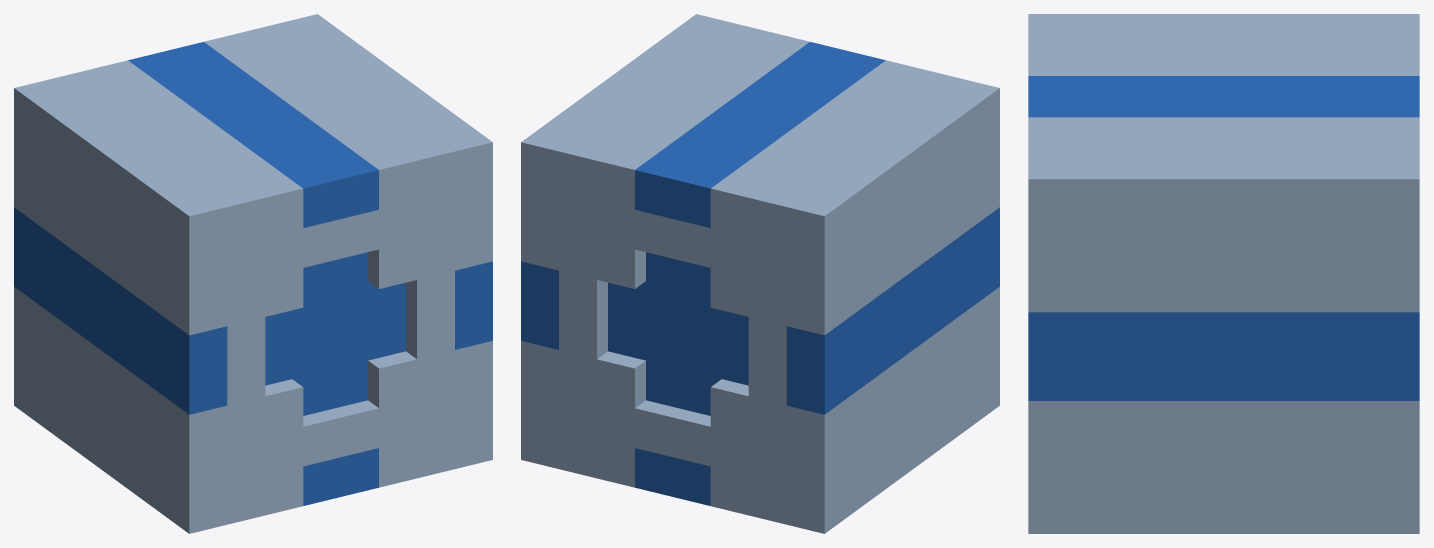
The model's file is diamond-block.glb.
The picture shows the model from 3 angles, left to right: view 1: azimuth 30°, elevation 25°; view 2: azimuth 150°, elevation 25°; view 3: azimuth 270°, elevation 25°; orthographic projection. The views are drawn at different scales.
Visible parts, largest first — view 1: generated(Clone); view 2: generated(Clone); view 3: generated(Clone).
Part boxes in pixels (bbox=[...]): generated(Clone): bbox=[14, 14, 492, 533]; generated(Clone): bbox=[521, 14, 999, 533]; generated(Clone): bbox=[1028, 14, 1419, 533].
Bounding box in the file's own units: 8 × 8 × 8.
1 material, 1 textured.
